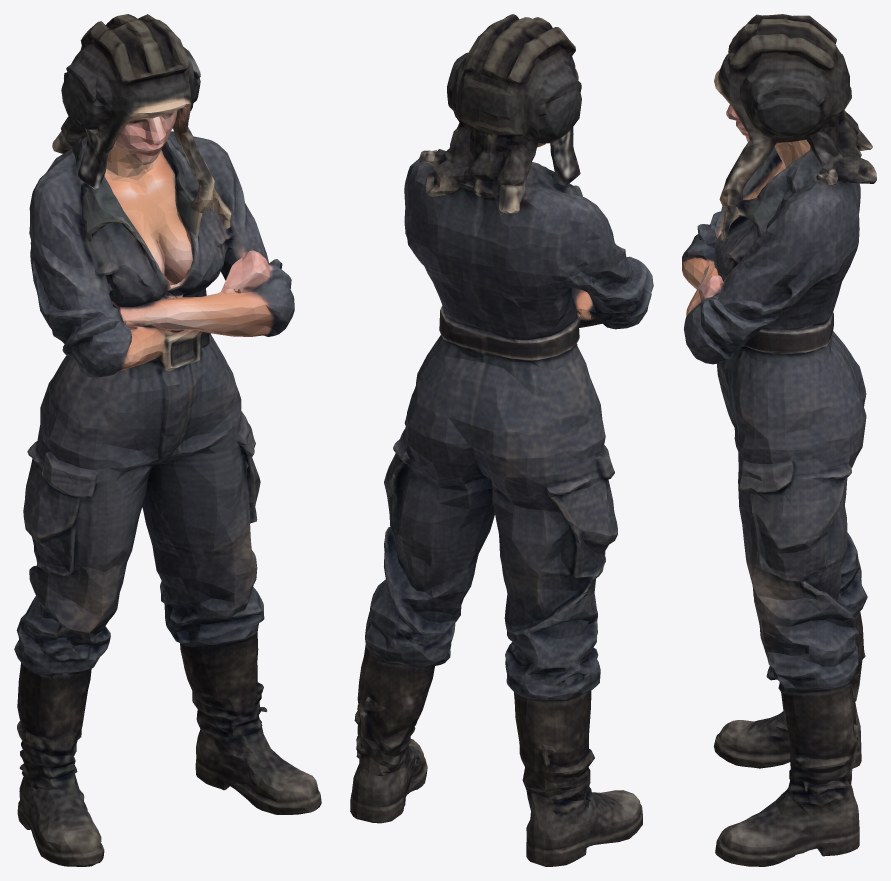
Rendered from crew_su_gunner_4.obj.
3 views of the same model, side by side, from view 1: azimuth 30°, elevation 25°; view 2: azimuth 150°, elevation 25°; view 3: azimuth 270°, elevation 25° (orthographic). The views are drawn at different scales.
Visible parts, largest first — view 1: crew_su_gunner_4; view 2: crew_su_gunner_4; view 3: crew_su_gunner_4.
Boxes of the visible parts, <box> form: crew_su_gunner_4: <box>14,14,321,866</box>; crew_su_gunner_4: <box>350,14,653,866</box>; crew_su_gunner_4: <box>682,14,876,866</box>.
Size of the model in its own units: 0.5853 by 1.68 by 0.385.
1 material, 1 textured.
